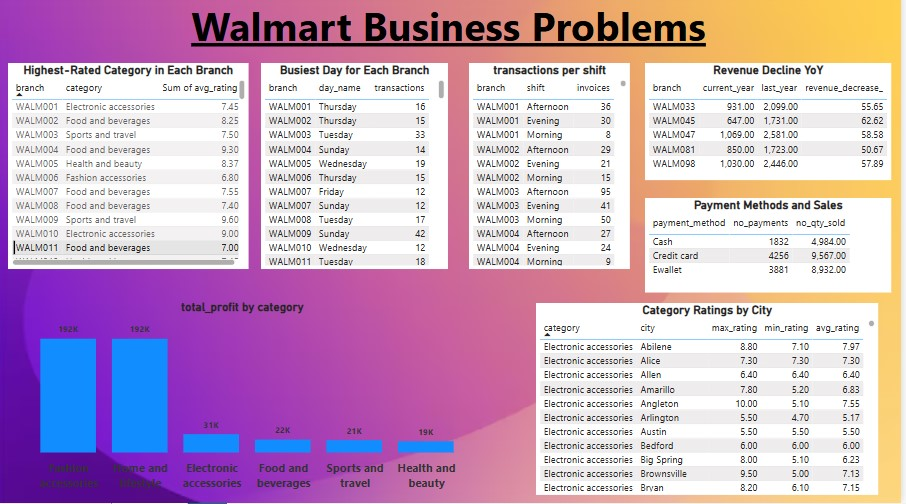

The dashboard page shown, as its layout file describes it:
{"tool":"powerbi","page":{"name":"Page 1","canvas":[1280,720],"ordinal":0},"visuals":[{"type":"tableEx","title":"Highest-Rated Category in Each Branch","fields":{"Values":["Query1.branch","Query1.category","Sum(Query1.avg_rating)"]},"box":[15.1,95.7,341,292.3],"z":1000},{"type":"textbox","box":[0,0,1280,95.7],"z":1001},{"type":"tableEx","title":"Busiest Day for Each Branch","fields":{"Values":["Query2.branch","Query2.day_name","Sum(Query2.no_transactions)"]},"box":[374.6,95.7,265.4,292.3],"z":1002},{"type":"tableEx","title":"Payment Methods and Sales","fields":{"Values":["Payment Methods and Sales.payment_method","Sum(Payment Methods and Sales.no_payments)","Sum(Payment Methods and Sales.no_qty_sold)"]},"box":[918.8,287.2,349.4,134.4],"z":1003},{"type":"tableEx","title":"Category Ratings by City","fields":{"Values":["Category Ratings by City.category","Category Ratings by City.city","Sum(Category Ratings by City.max_rating)","Sum(Category Ratings by City.min_rating)","Sum(Category Ratings by City.avg_rating)"]},"box":[764.3,436.7,485.5,272.1],"z":1006},{"type":"columnChart","title":"total_profit by category","fields":{"Category":["Total Profit by Category.category"],"Y":["Sum(Total Profit by Category.total_profit)"]},"box":[0,431.7,695.4,277.2],"z":1007},{"type":"tableEx","title":"Revenue Decline YoY","fields":{"Values":["Revenue Decline YoY.branch","Sum(Revenue Decline YoY.current_year_revenue)","Sum(Revenue Decline YoY.last_year_revenue)","Sum(Revenue Decline YoY.revenue_decrease_ratio)"]},"box":[918.8,95.7,349.4,166.3],"z":1008},{"type":"tableEx","title":"transactions per shift","fields":{"Values":["transactions per shift.branch","transactions per shift.shift","Sum(transactions per shift.num_invoices)"]},"box":[668.6,95.7,228.5,292.3],"z":1009}]}

Visuals, with their boxes in screenshot pixels (x1, y1, x2, y2), scaled from the page's 1280x720 canvas onto the 906x504 screenshot:
"Highest-Rated Category in Each Branch" tableEx: crop(11, 67, 252, 272)
textbox: crop(0, 0, 905, 67)
"Busiest Day for Each Branch" tableEx: crop(265, 67, 453, 272)
"Payment Methods and Sales" tableEx: crop(650, 201, 898, 295)
"Category Ratings by City" tableEx: crop(541, 306, 885, 496)
"total_profit by category" columnChart: crop(0, 302, 492, 496)
"Revenue Decline YoY" tableEx: crop(650, 67, 898, 183)
"transactions per shift" tableEx: crop(473, 67, 635, 272)
